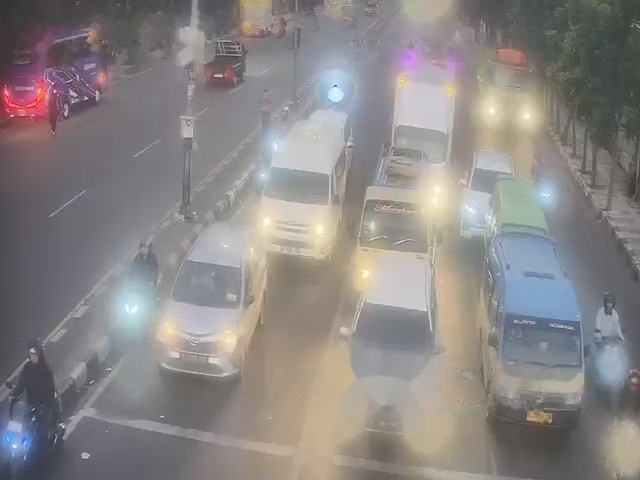Mobil: (472, 232, 583, 426), (152, 221, 256, 385), (342, 259, 440, 433), (463, 143, 519, 221), (207, 41, 245, 87)
Motor: (596, 325, 628, 396), (116, 281, 143, 338), (0, 421, 31, 464)
Truk: (257, 119, 345, 262), (358, 135, 443, 274), (0, 28, 113, 119), (392, 76, 453, 181)
